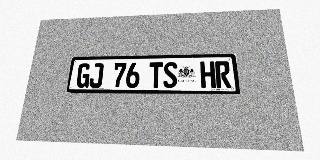6: (126, 62, 140, 88)
7: (112, 63, 127, 88)
G: (76, 63, 91, 88)
H: (200, 61, 216, 88)
J: (89, 63, 104, 88)
R: (215, 61, 232, 88)
S: (163, 62, 177, 88)
T: (149, 62, 163, 88)
